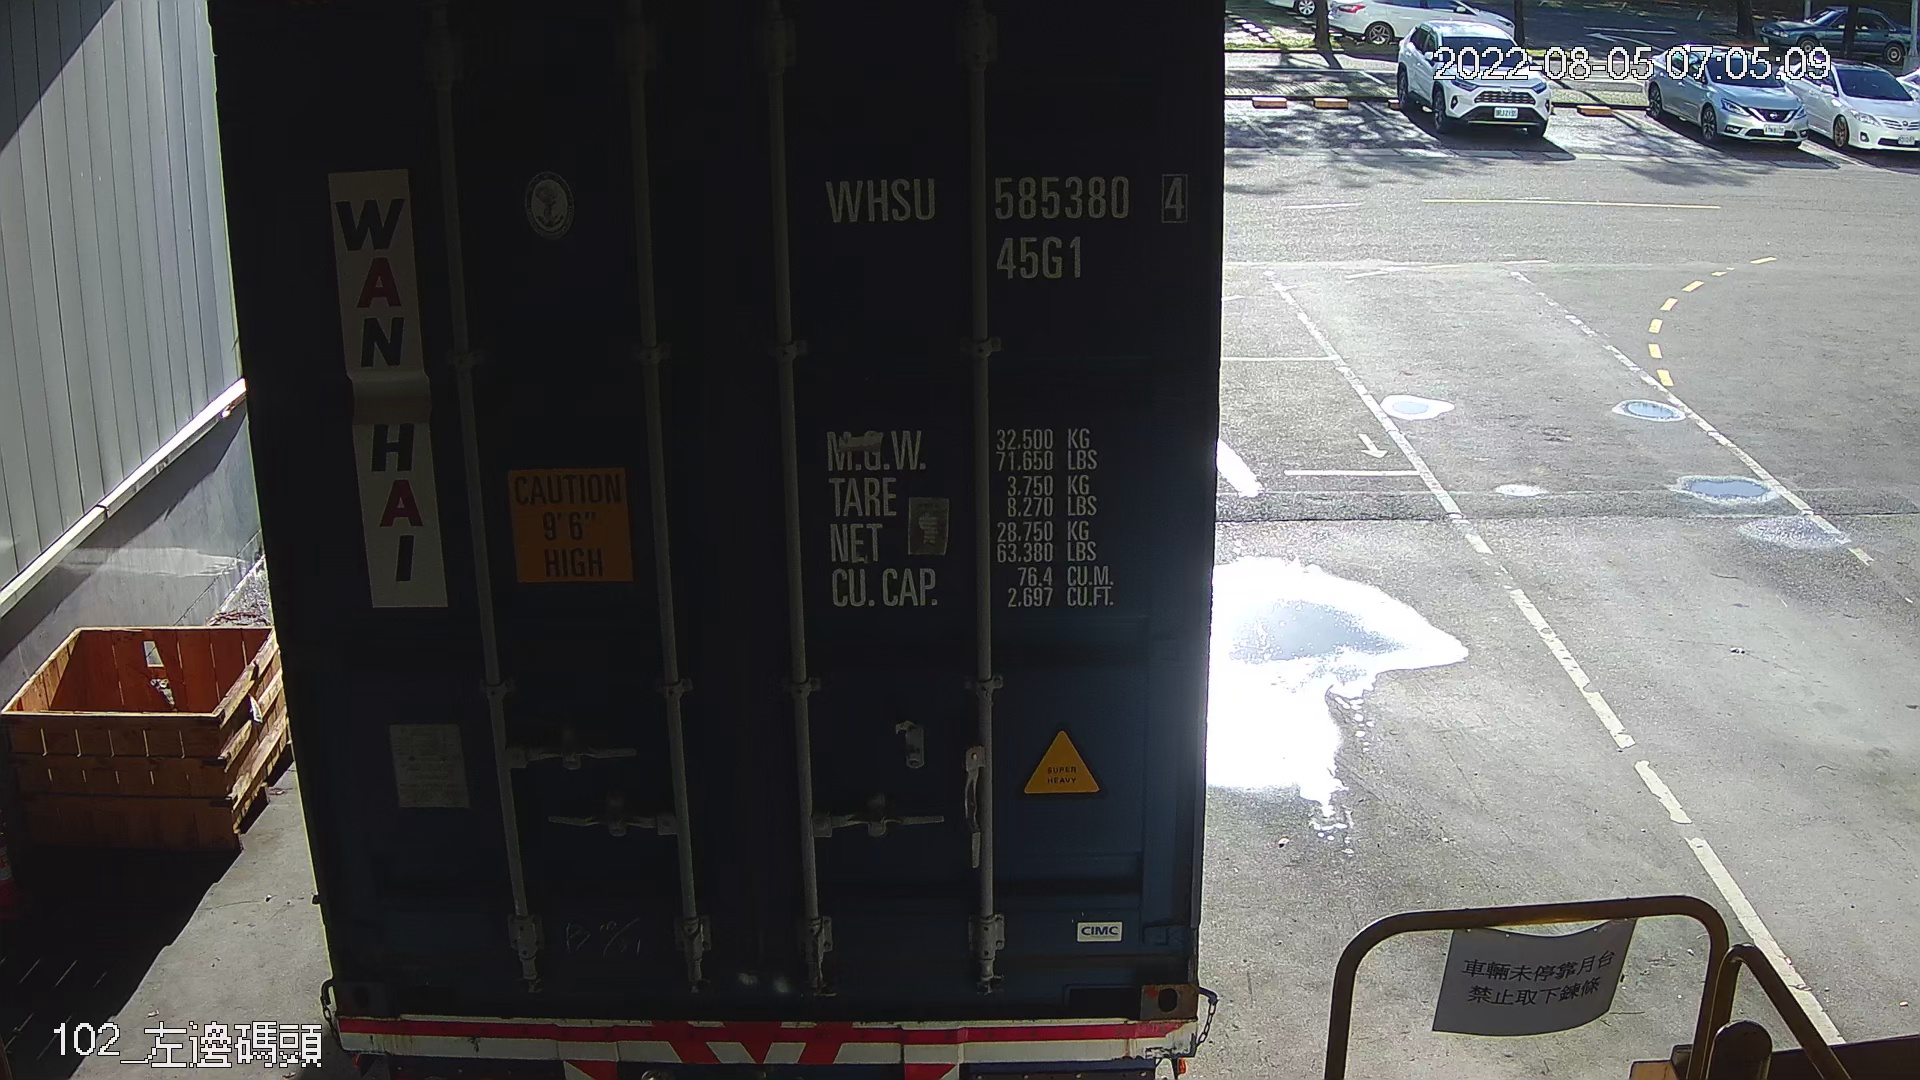container: (810, 144, 1207, 301)
